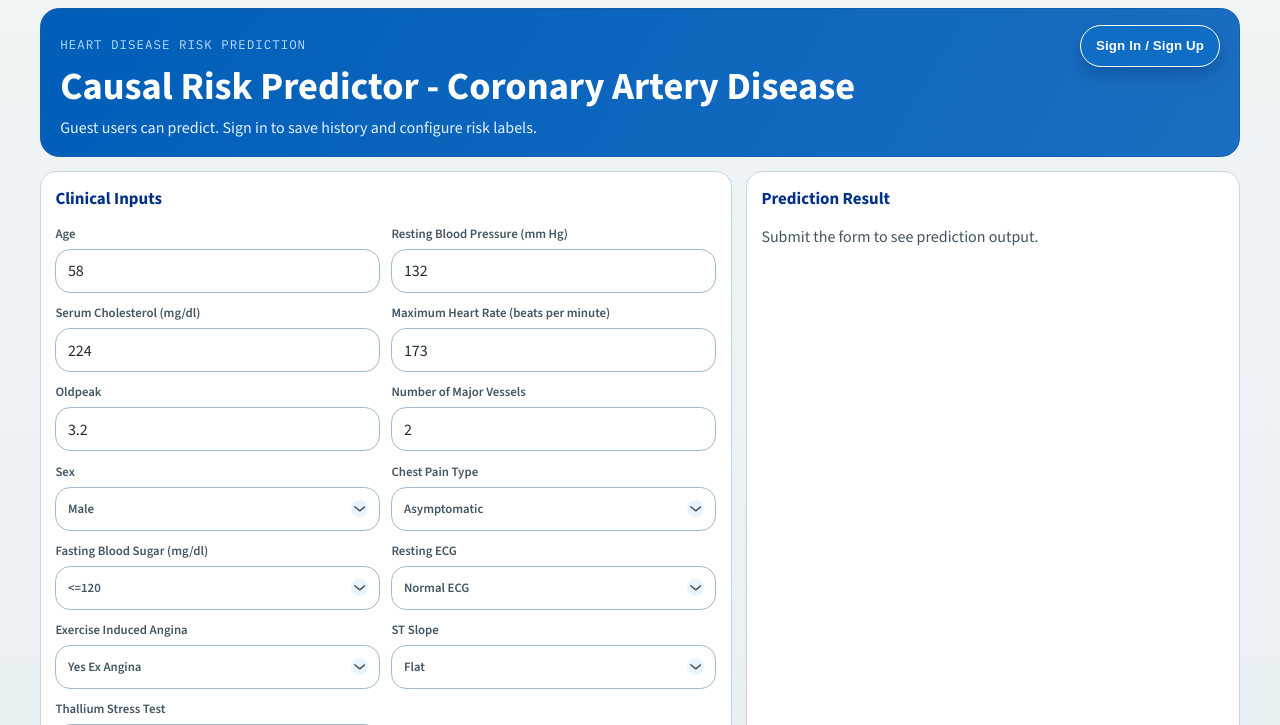
it: form validation rejects out-of-range value for Serum Cholesterol (mg/dl)
Step 1. Replace the text in the number field labelled "Serum Cholesterol (mg/dl)" with "701" → (218, 350), box [55, 328, 380, 372]
(page scrolled)
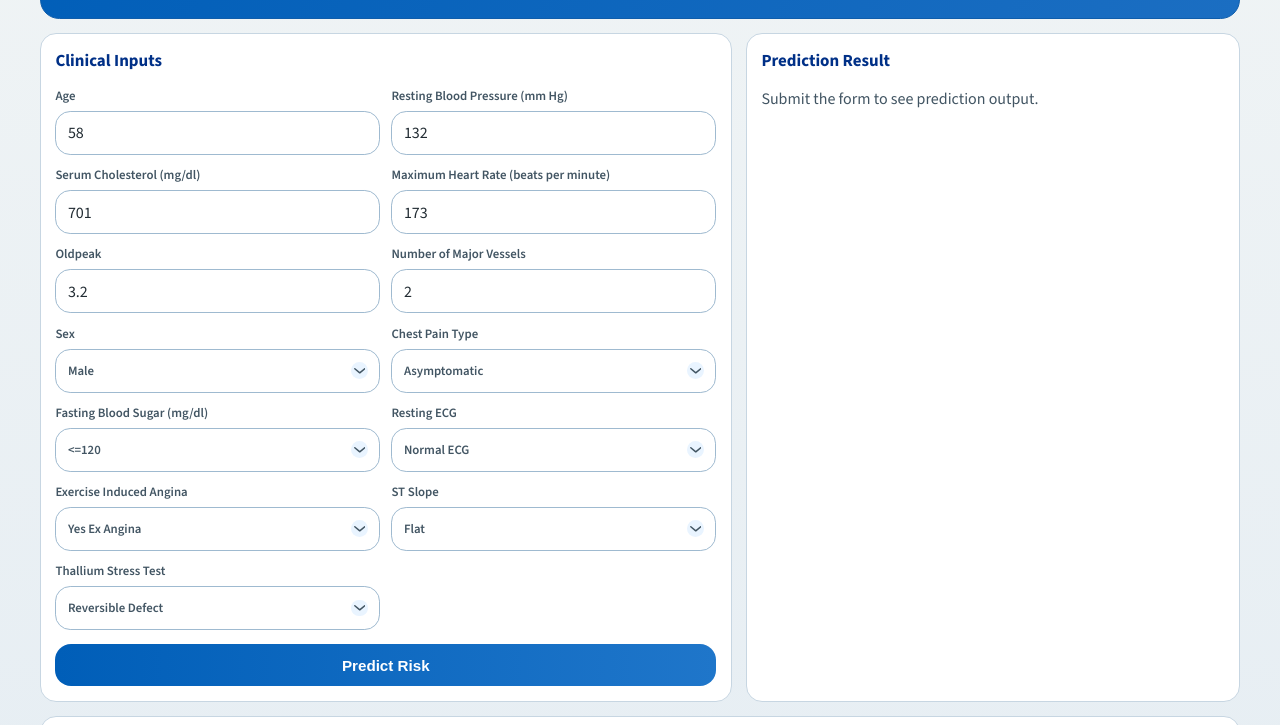
Step 2. Submit the form named "Predict Risk", box [55, 87, 716, 686]
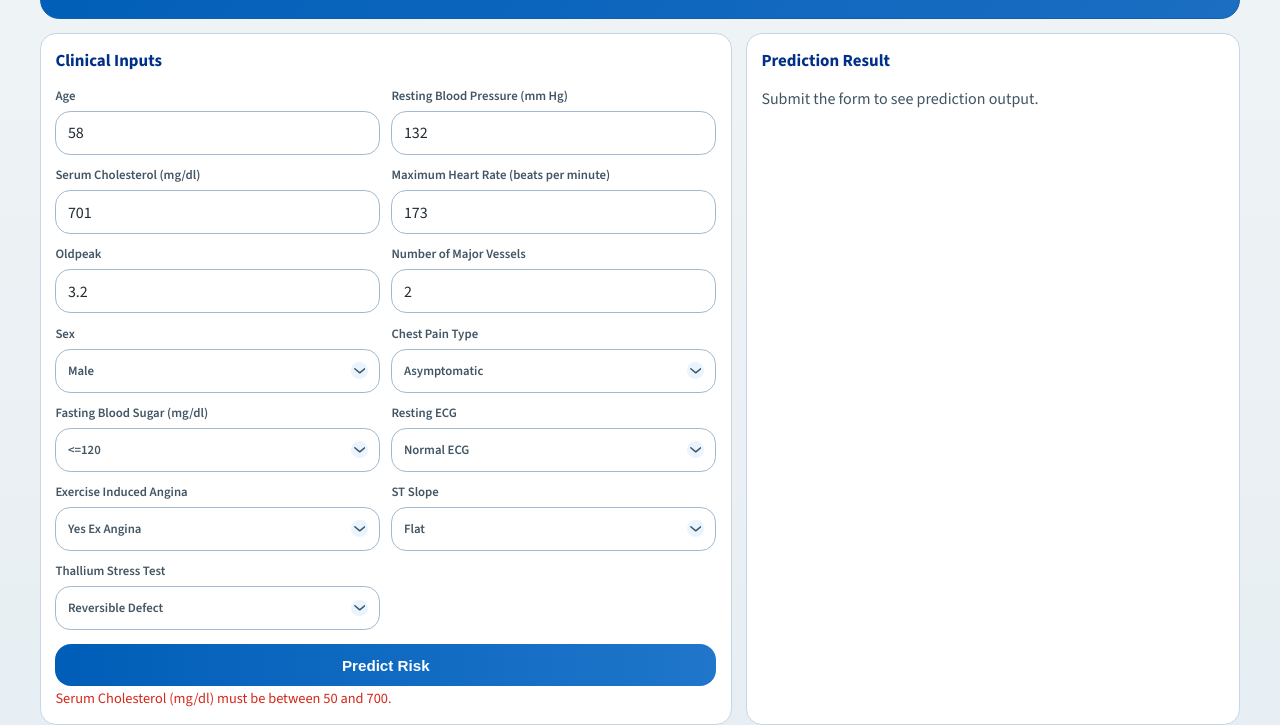
Now the text "Serum Cholesterol (mg/dl) must be between 50 and 700." is shown, box [55, 689, 392, 708]
